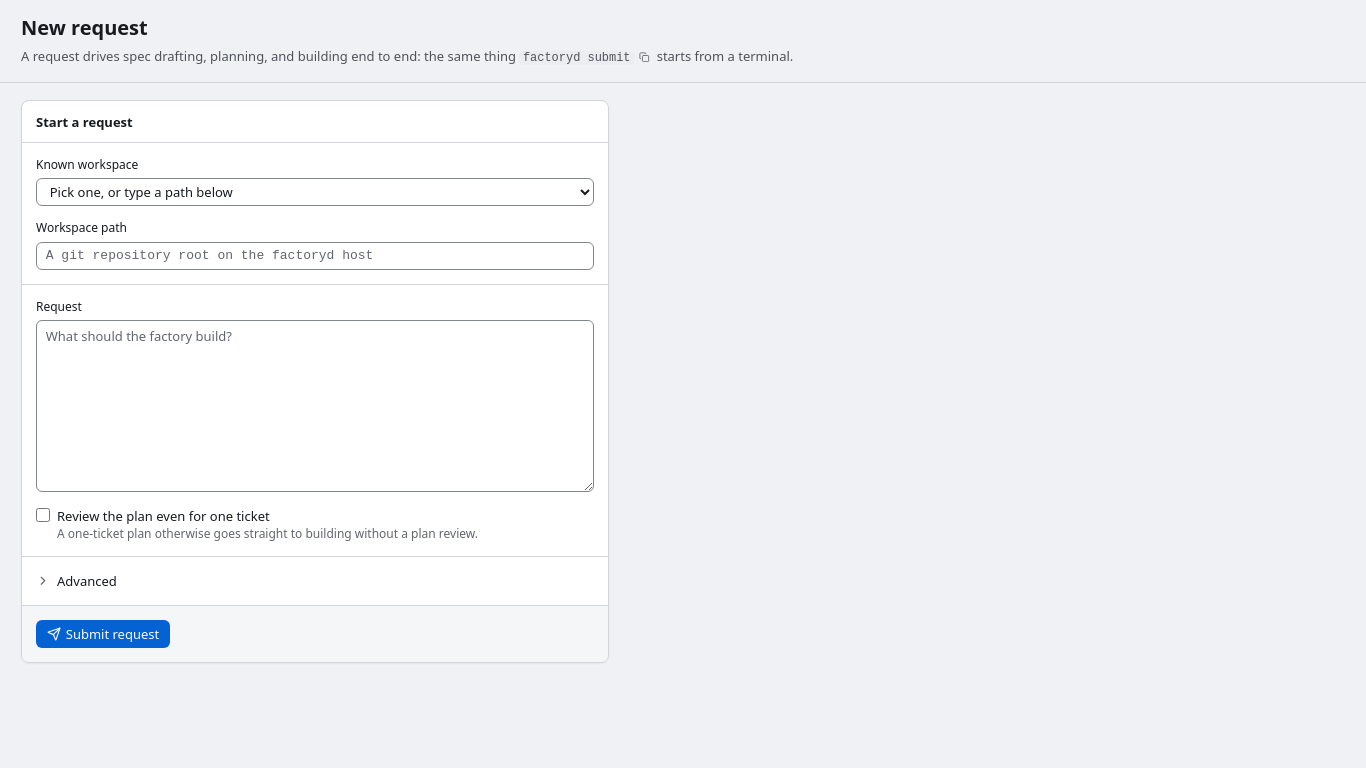
Scenario: NewRequestScreen › the workspace dropdown fills the workspace field and shows its verify-command hint
Select "/repos/app" in the dropdown labelled "Known workspace" at (315, 192), box [36,178,594,206]
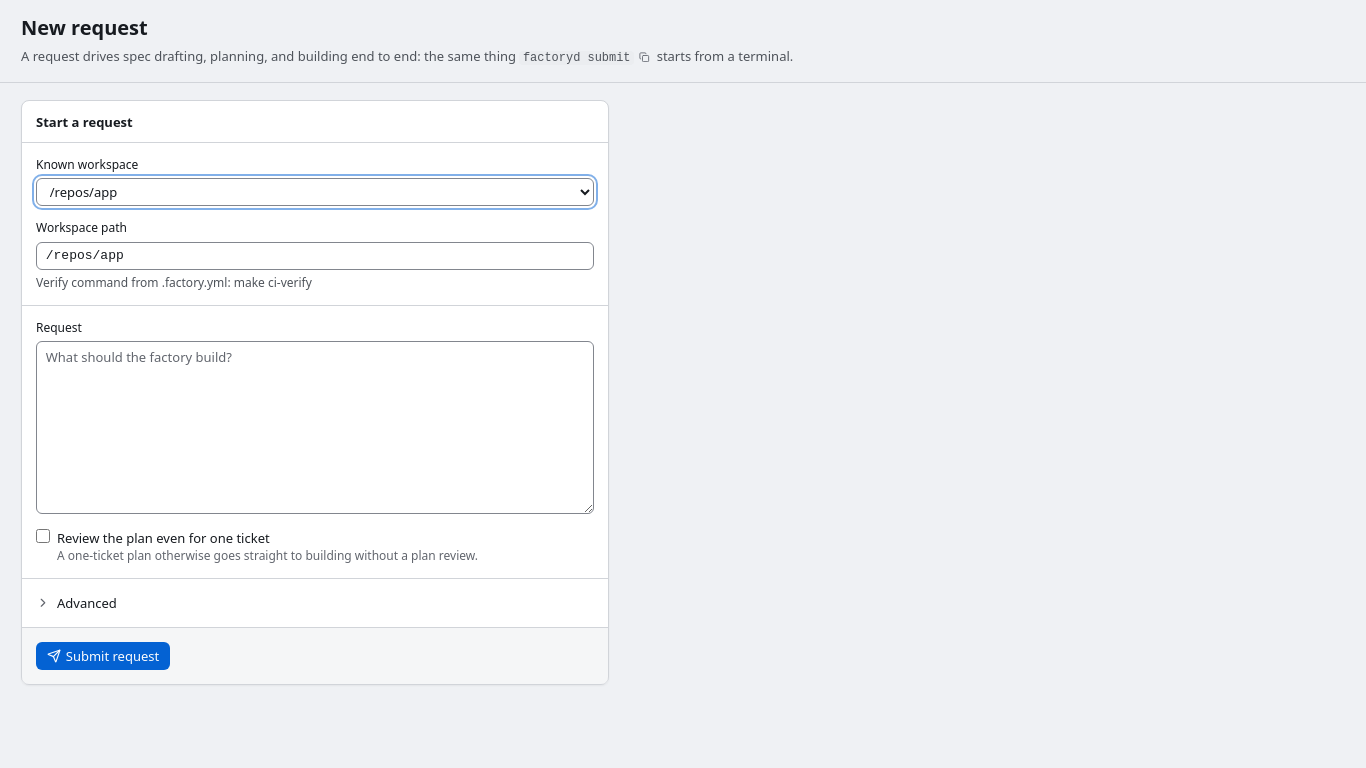
Result: the field labelled "Workspace path" holds "/repos/app" at [36,242,594,270]
Result: the text "Verify command from .factory.yml: make ci-verify" is shown at [36,274,312,291]
